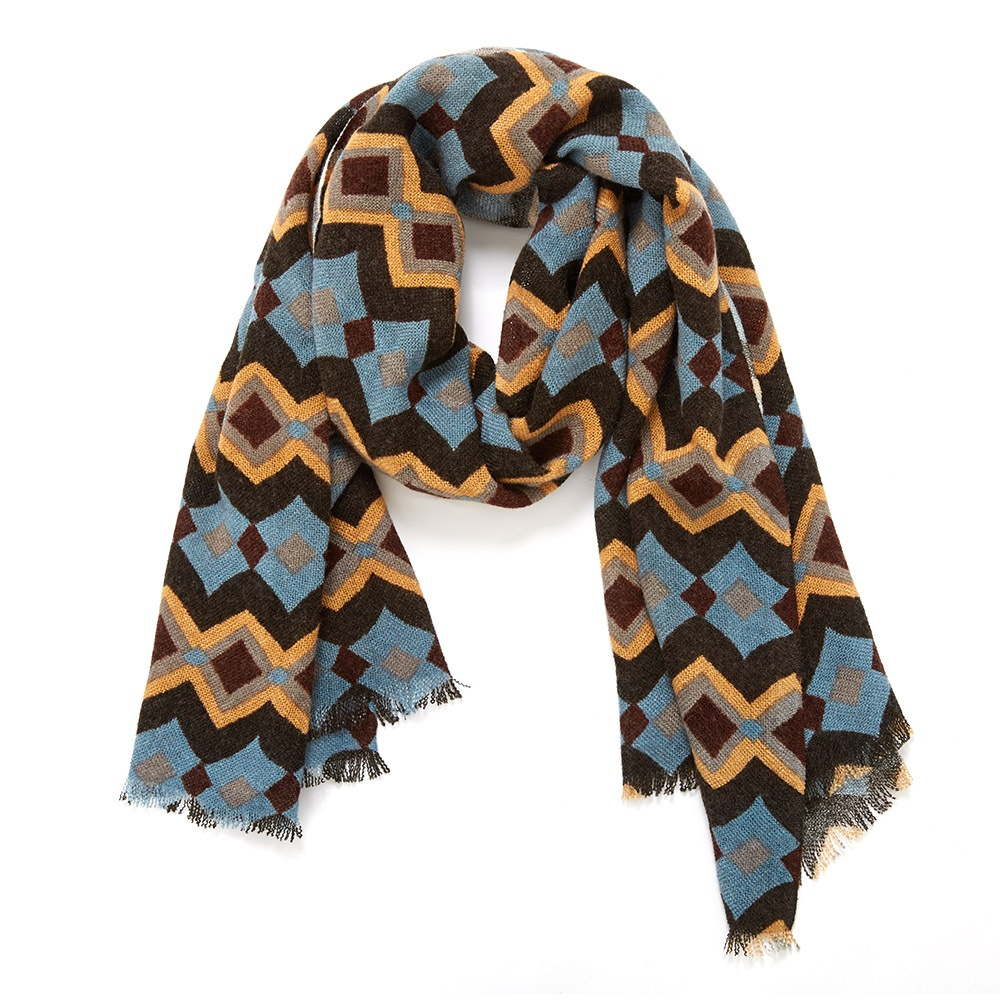flexible: (117, 40, 917, 970)
